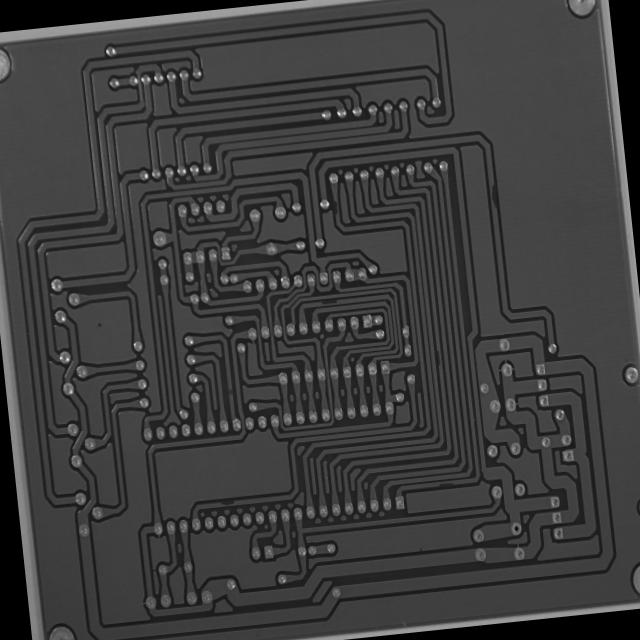mouse_bite: (486, 178, 500, 212), (318, 296, 341, 308), (217, 496, 237, 508), (434, 346, 443, 370), (436, 479, 456, 489), (331, 197, 341, 217)
